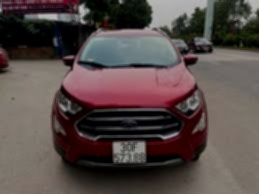Bien-so: (103, 136, 139, 160)
